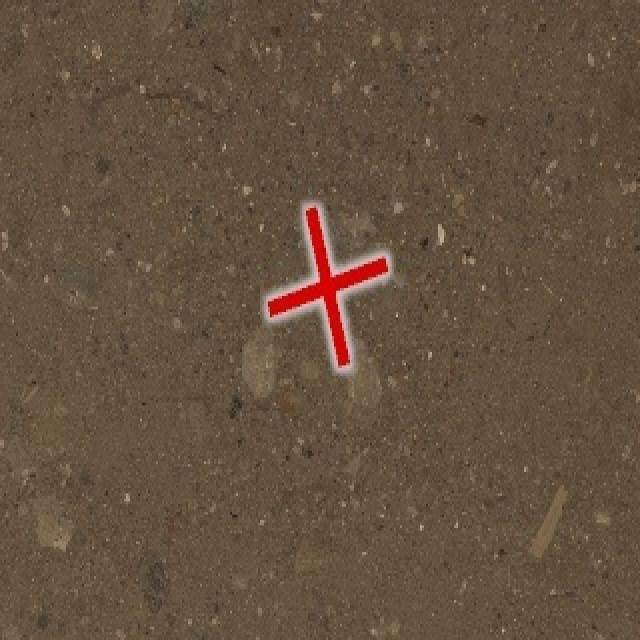x_marker: (267, 206, 387, 366)
